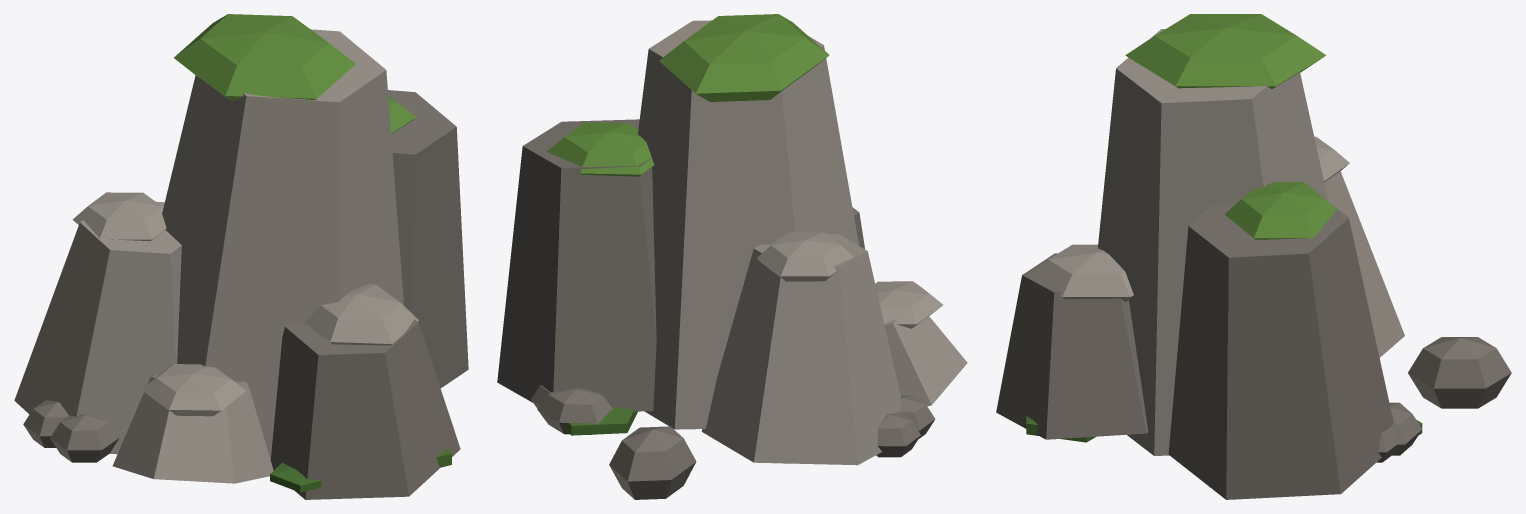
The model's file is outcrop_mossy.glb.
3 views of the same model, side by side, from view 1: azimuth 30°, elevation 25°; view 2: azimuth 150°, elevation 25°; view 3: azimuth 270°, elevation 25° (orthographic). The views are drawn at different scales.
Parts seen in each view (by area): view 1: scatter_rocks_mossy_outcrop; view 2: scatter_rocks_mossy_outcrop; view 3: scatter_rocks_mossy_outcrop.
Boxes of the visible parts, <box> form: scatter_rocks_mossy_outcrop: <box>14,14,468,499</box>; scatter_rocks_mossy_outcrop: <box>497,14,967,499</box>; scatter_rocks_mossy_outcrop: <box>996,14,1511,499</box>.
Size of the model in its own units: 3.2 by 3 by 3.59.
